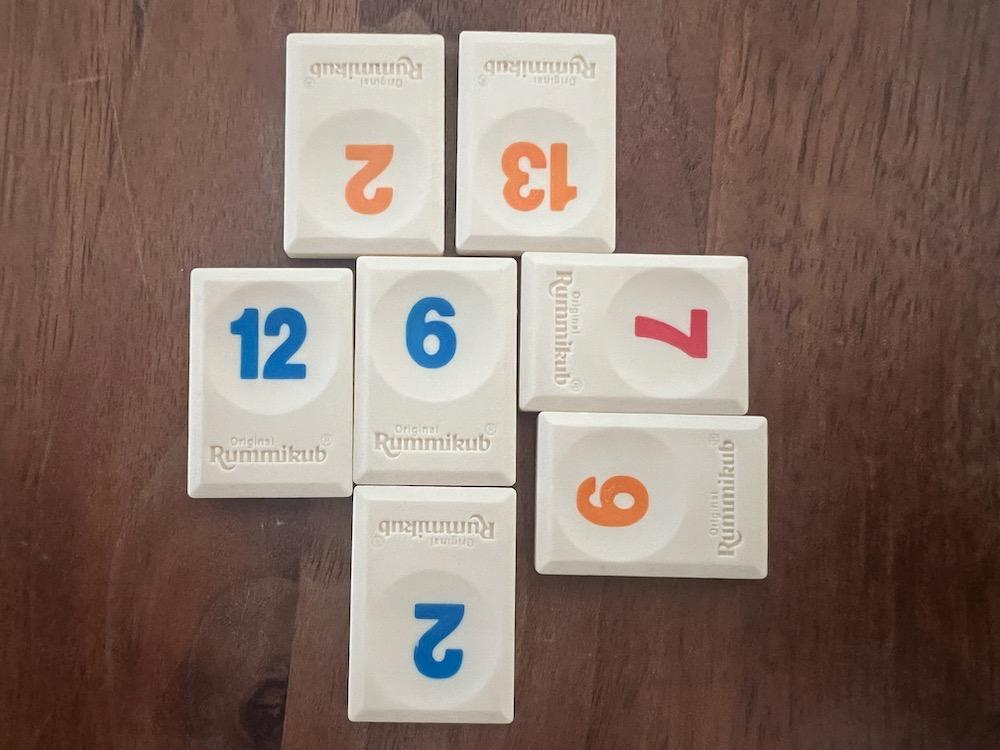blue_12: (189, 268, 354, 496)
blue_2: (350, 486, 516, 723)
blue_6: (354, 256, 516, 486)
orange_13: (455, 31, 615, 256)
orange_2: (283, 33, 445, 256)
orange_6: (535, 412, 768, 578)
red_7: (521, 252, 746, 413)
